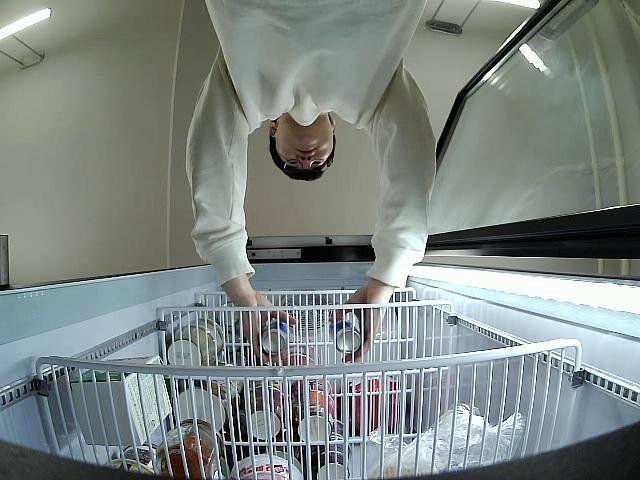15_letsbe: (331, 319, 363, 352), (262, 323, 292, 352)
